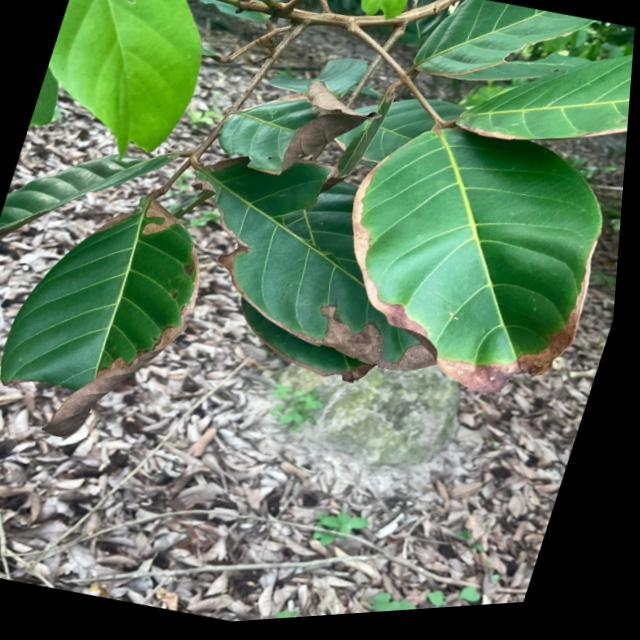Leaf Blight: (350, 130, 606, 407), (204, 173, 440, 377), (12, 197, 207, 433), (214, 94, 375, 174)
